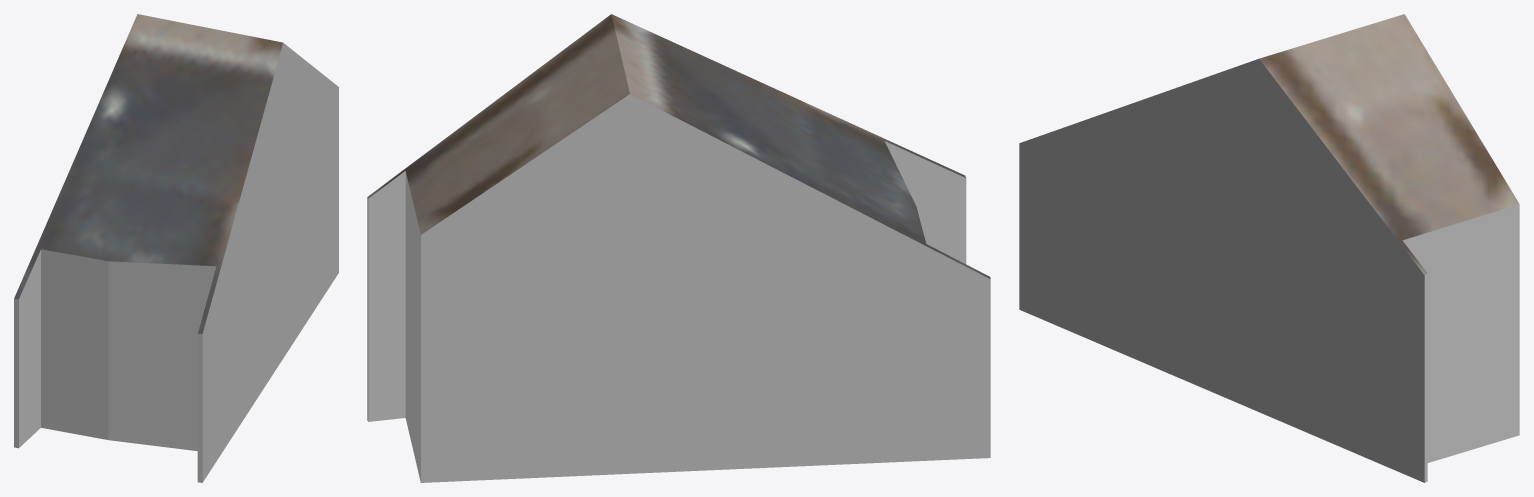
Rendered from DEBW_0010007TvlL.gltf.
3 views of the same model, side by side, from view 1: azimuth 30°, elevation 25°; view 2: azimuth 150°, elevation 25°; view 3: azimuth 270°, elevation 25° (orthographic). The views are drawn at different scales.
Visible parts, largest first — view 1: Z_UP; view 2: Z_UP; view 3: Z_UP.
Part boxes in pixels (x1,y1,x2,y2): Z_UP: [14, 14, 338, 482]; Z_UP: [367, 14, 990, 482]; Z_UP: [1019, 14, 1519, 482].
Size of the model in its own units: 15.82 by 11.33 by 14.51.
2 materials, 1 textured.
